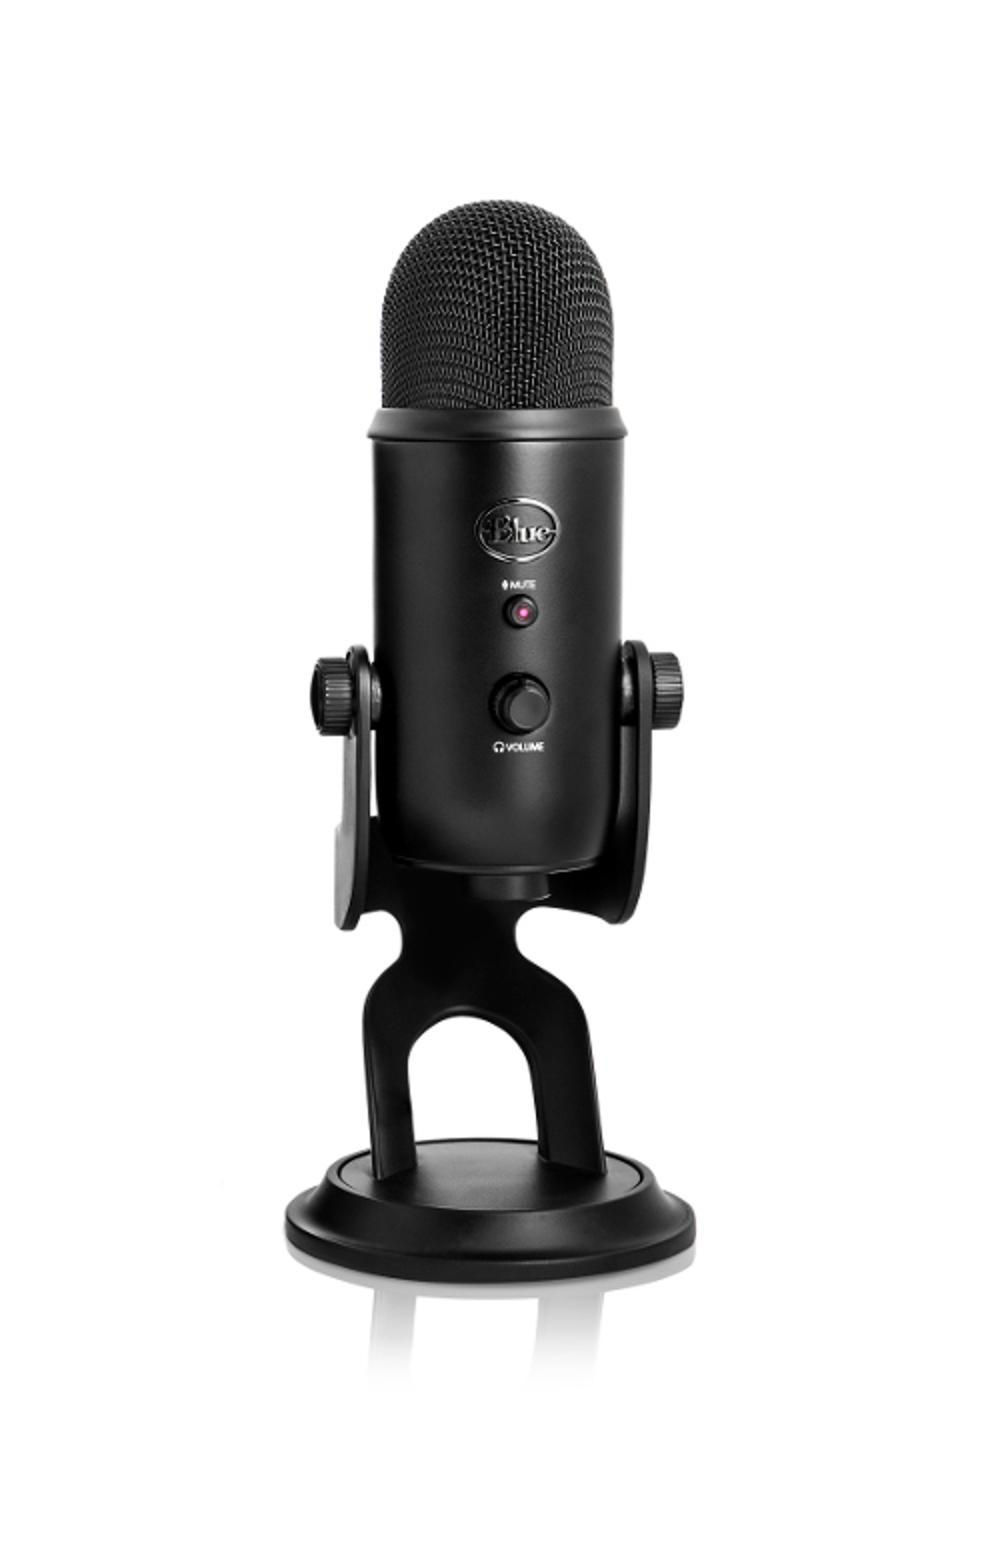Microphone: (310, 150, 727, 1355)
